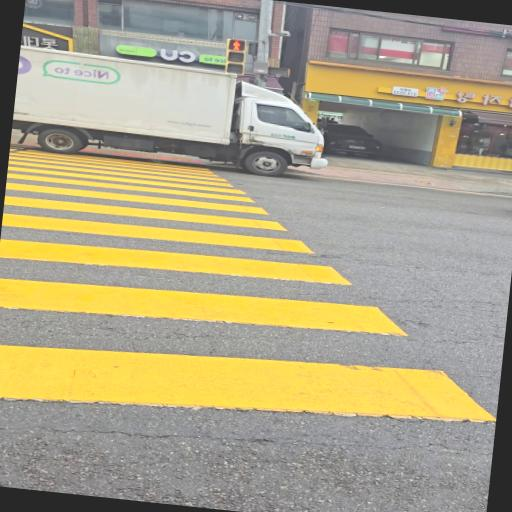yellow-crosswalk: (0, 138, 512, 462)
